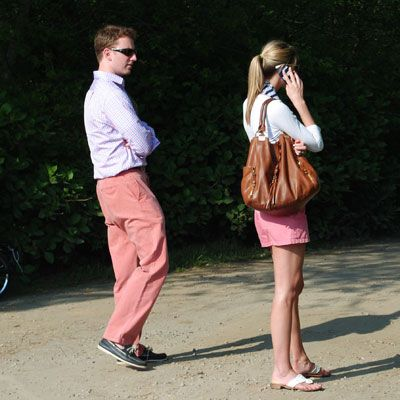Person: (241, 39, 332, 391), (83, 25, 170, 367)
